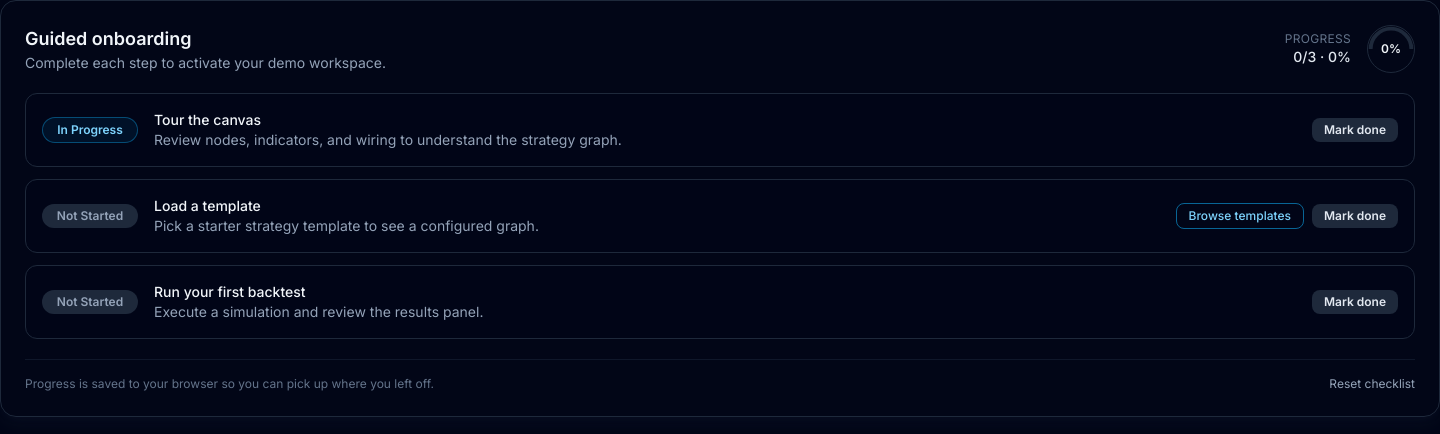
it: OnboardingChecklist › renders steps and updates progress when marking complete
Expected: the heading "Guided onboarding" is shown, top-left (25, 28), bottom-right (192, 49)
Expected: the text "0/3 · 0%" is shown, top-left (1285, 47), bottom-right (1351, 67)
Click the button with aria-label "Mark step Tour the canvas as complete". click: {"x": 1355, "y": 130}
box: top-left (1312, 118), bottom-right (1398, 142)
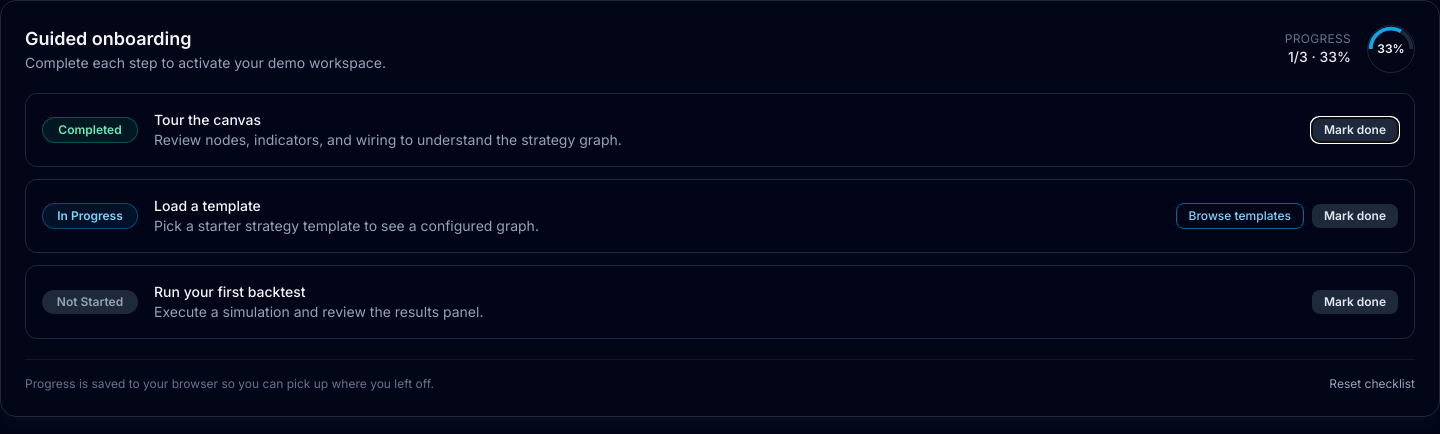
Expected: the text "1/3 · 33%" is shown, top-left (1285, 47), bottom-right (1351, 67)
